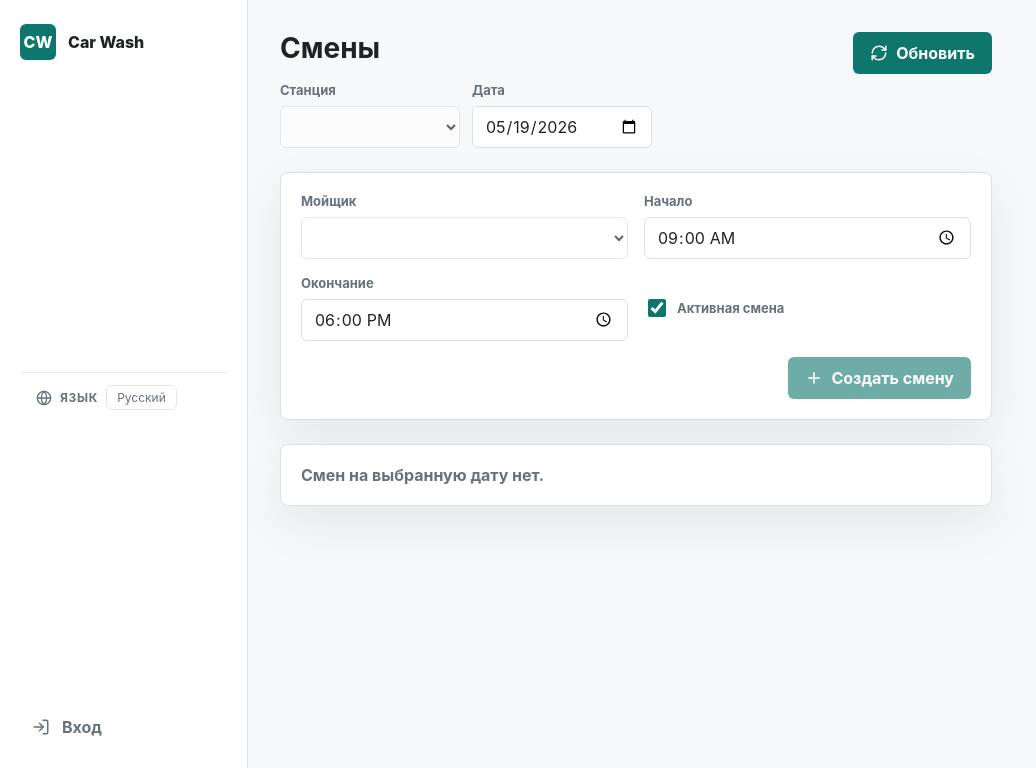
Test: App › validates manager shift time range
The width and height of the screenshot is (1036, 768).
Expected: the heading "Смены" is shown, [280,31,380,65]
Replace the text in the time field labelled "Окончание" with "08:00" at (464, 320), box [301,299,628,341]
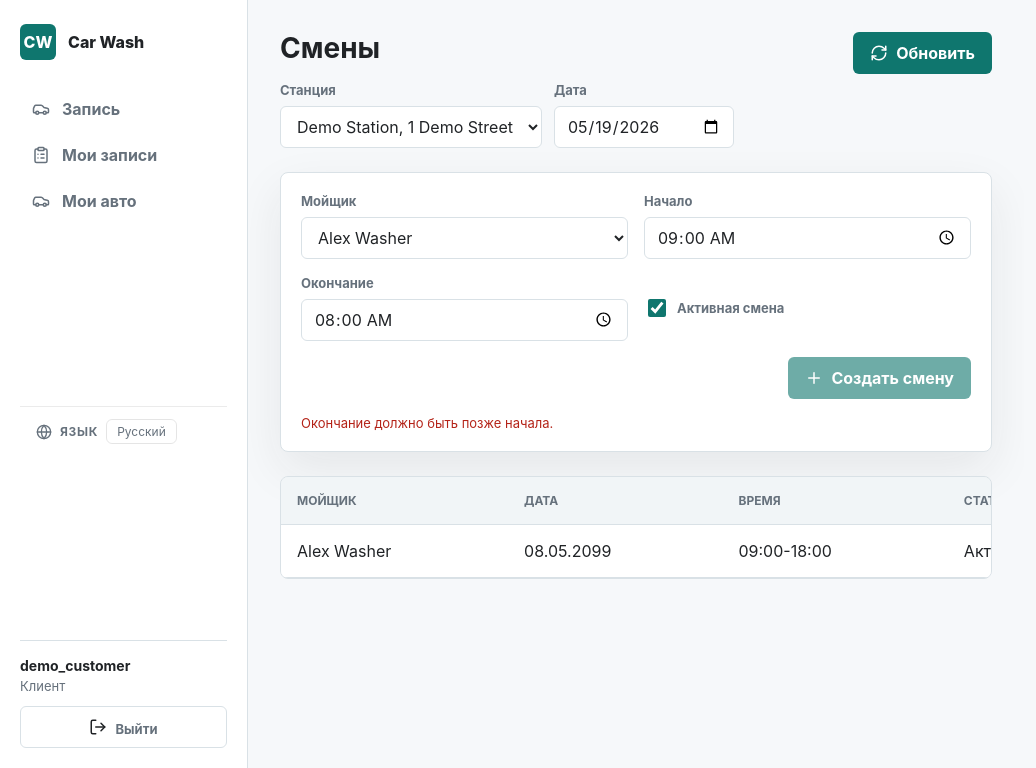
Expected: the button "Создать смену" is disabled, [788,357,971,399]
Expected: the text "Окончание должно быть позже начала." is shown, [301,415,553,431]
